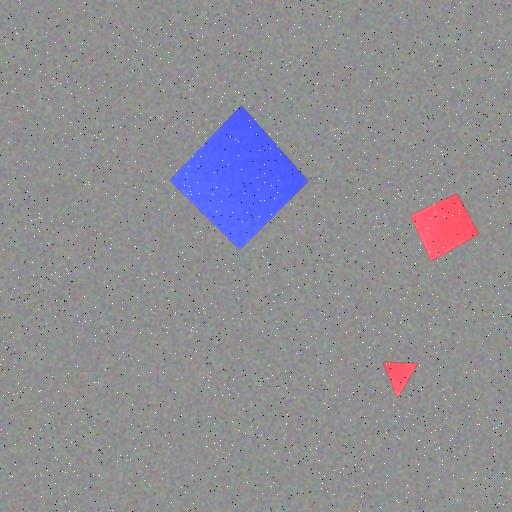BLUE_SQUARE: (168, 104, 310, 250)
RED_SQUARE: (410, 192, 480, 262)
